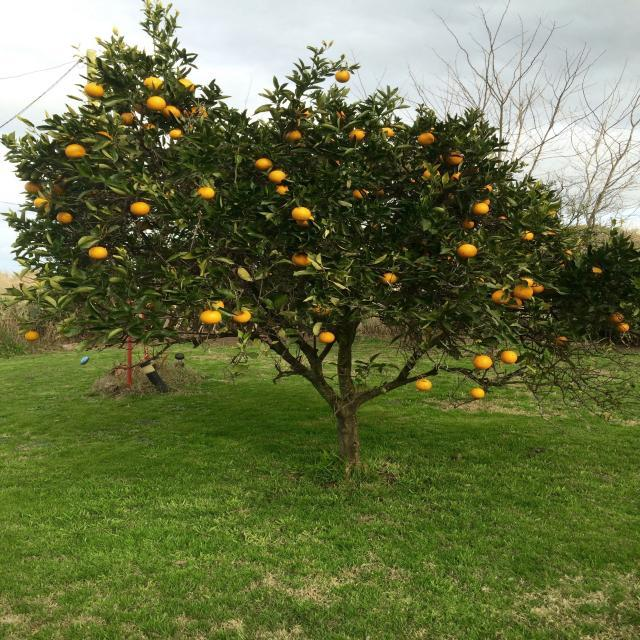Jeruk Sudah Matang: (288, 250, 318, 269), (140, 75, 168, 94), (512, 279, 537, 299), (198, 309, 224, 324), (175, 77, 199, 93), (491, 288, 511, 306), (119, 110, 139, 128), (145, 95, 167, 111), (253, 156, 275, 172), (284, 128, 306, 144), (291, 208, 312, 224), (229, 309, 253, 323), (291, 207, 313, 222), (87, 246, 110, 260), (506, 296, 526, 312), (444, 150, 464, 166), (347, 127, 368, 142), (456, 244, 478, 258), (63, 145, 85, 159), (473, 357, 495, 371), (162, 104, 182, 119), (458, 245, 479, 259), (349, 186, 370, 200), (196, 187, 215, 201), (414, 378, 433, 392), (416, 133, 436, 146), (32, 197, 52, 210), (500, 352, 518, 366), (83, 84, 101, 98), (470, 386, 486, 401), (334, 70, 351, 84), (131, 202, 148, 216), (319, 333, 337, 346), (381, 272, 399, 285), (268, 171, 285, 184), (473, 202, 490, 215), (54, 213, 72, 225), (614, 322, 632, 334), (168, 128, 186, 140), (519, 228, 534, 241), (24, 330, 40, 342)
